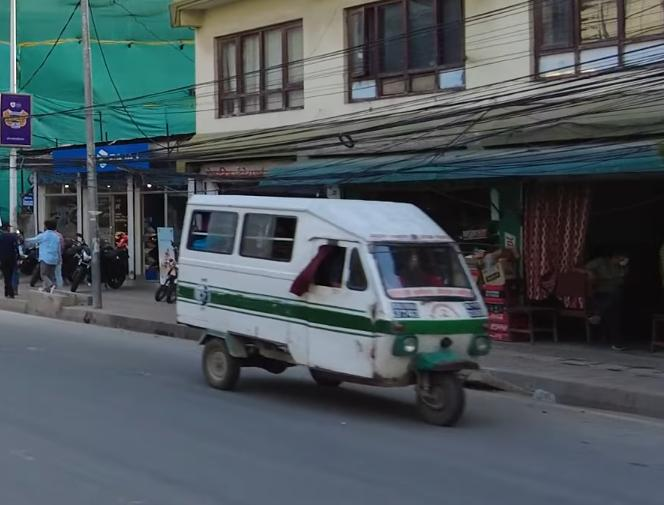tempo: (176, 186, 493, 431)
